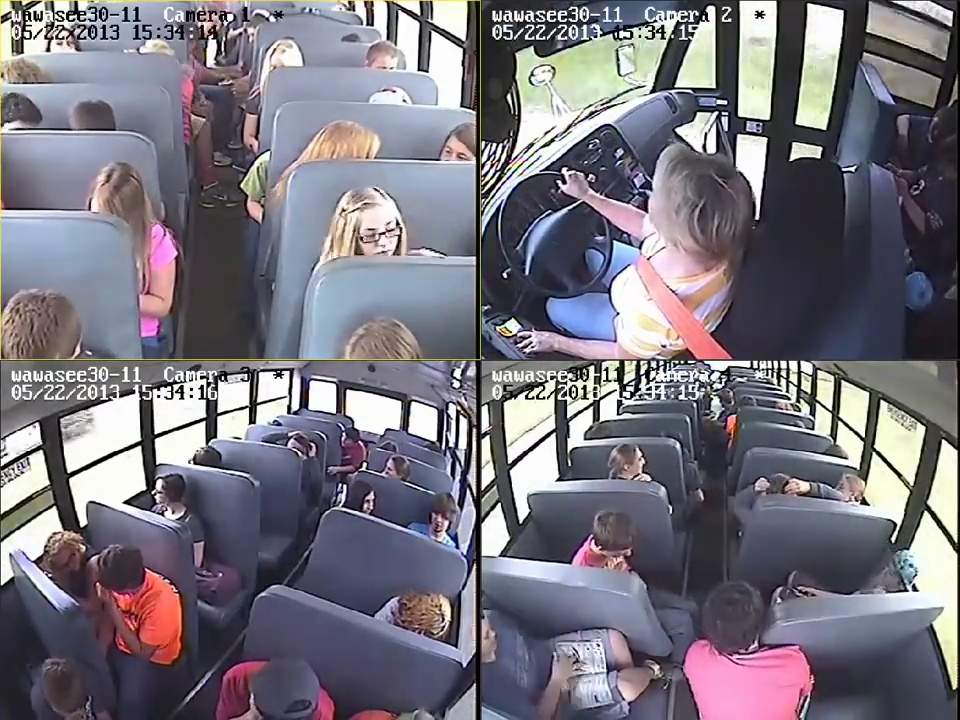face: (349, 211, 404, 261), (442, 129, 476, 167), (148, 479, 173, 508)
